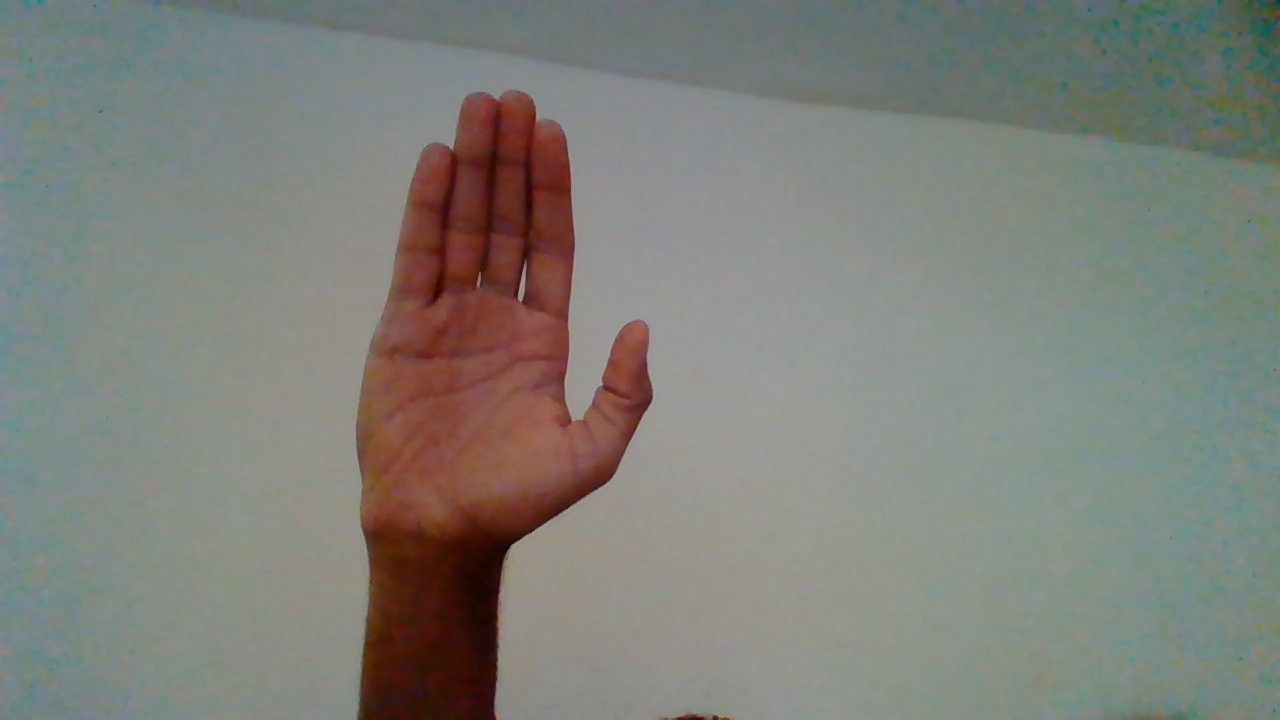ha: (356, 86, 659, 651)
